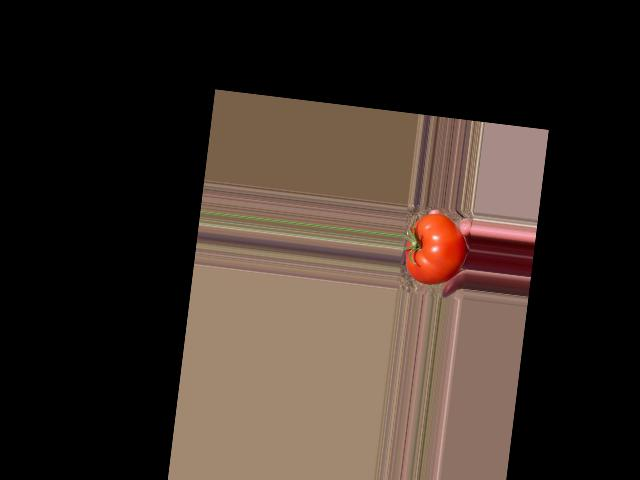tomato: (402, 210, 470, 287)
